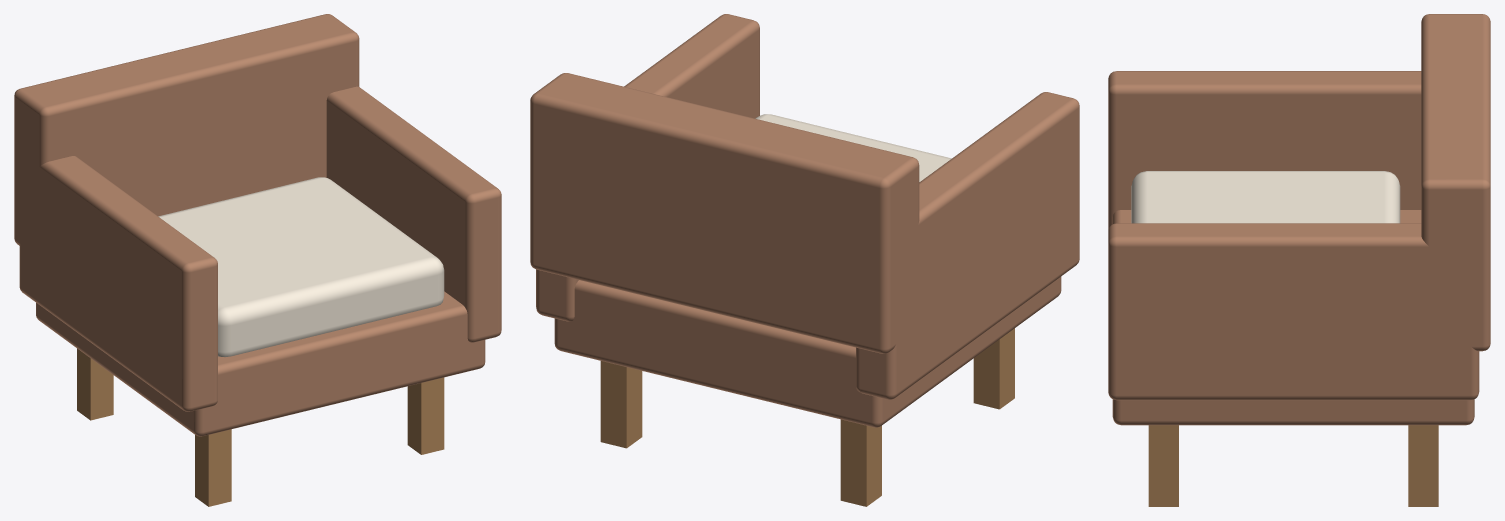
File: armchair.glb
3 renders of one model, left to right at view 1: azimuth 30°, elevation 25°; view 2: azimuth 150°, elevation 25°; view 3: azimuth 270°, elevation 25°, orthographic. The views are drawn at different scales.
Visible parts, largest first — view 1: poc-armchair-part-55, poc-armchair-part-56, poc-armchair-part-58, poc-armchair-part-54, poc-armchair-part-57, poc-armchair-part-62, poc-armchair-part-60, poc-armchair-part-59; view 2: poc-armchair-part-55, poc-armchair-part-56, poc-armchair-part-54, poc-armchair-part-57, poc-armchair-part-61, poc-armchair-part-59, poc-armchair-part-60, poc-armchair-part-58; view 3: poc-armchair-part-57, poc-armchair-part-56, poc-armchair-part-55, poc-armchair-part-58, poc-armchair-part-54, poc-armchair-part-61, poc-armchair-part-62.
Part boxes in pixels (x1,y1,x2,y2): poc-armchair-part-55: [14, 14, 359, 256]; poc-armchair-part-56: [19, 153, 217, 411]; poc-armchair-part-58: [158, 177, 444, 356]; poc-armchair-part-54: [36, 291, 485, 436]; poc-armchair-part-57: [326, 86, 501, 342]; poc-armchair-part-62: [407, 377, 444, 454]; poc-armchair-part-60: [195, 429, 231, 506]; poc-armchair-part-59: [77, 348, 113, 420]; poc-armchair-part-55: [530, 73, 919, 353]; poc-armchair-part-56: [856, 92, 1079, 399]; poc-armchair-part-54: [554, 276, 1061, 427]; poc-armchair-part-57: [536, 14, 759, 321]; poc-armchair-part-61: [600, 361, 642, 448]; poc-armchair-part-59: [840, 419, 881, 506]; poc-armchair-part-60: [973, 328, 1014, 409]; poc-armchair-part-58: [755, 114, 951, 181]; poc-armchair-part-57: [1108, 223, 1479, 400]; poc-armchair-part-56: [1108, 71, 1421, 229]; poc-armchair-part-55: [1421, 14, 1490, 351]; poc-armchair-part-58: [1131, 171, 1400, 223]; poc-armchair-part-54: [1112, 210, 1474, 425]; poc-armchair-part-61: [1408, 425, 1438, 506]; poc-armchair-part-62: [1148, 425, 1178, 506].
Bounding box in the file's own units: 0.9 × 0.85 × 0.85.
